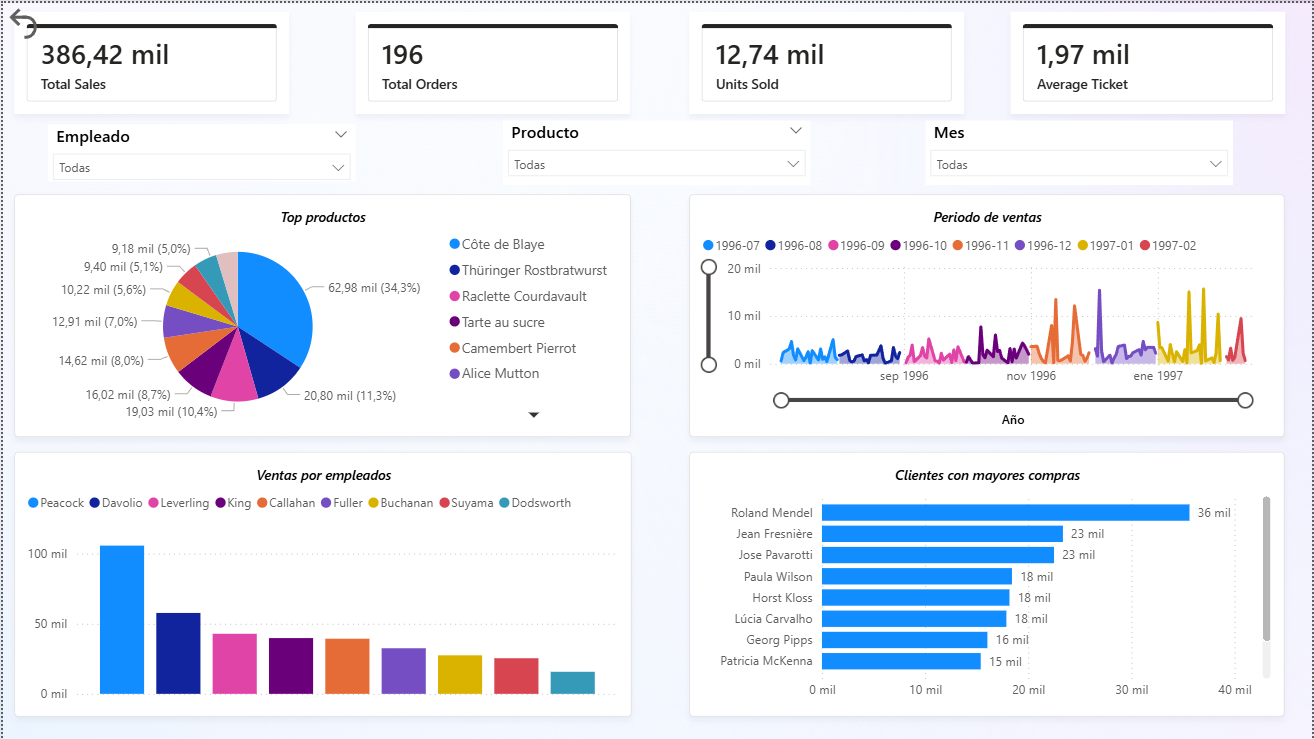

What the dashboard file says about the page in this screenshot:
{"tool":"powerbi","page":{"name":"Página 1","canvas":[1280,720],"ordinal":0},"visuals":[{"type":"columnChart","title":"Ventas por empleados","fields":{"Category":["Employees.FirstName","Employees.LastName"],"Series":["Employees.LastName"],"Y":["Medidas.Total Sales"]},"box":[11,439,604.1,259.2],"z":0},{"type":"clusteredBarChart","title":"Clientes con mayores compras","fields":{"Category":["Customers.ContactName"],"Y":["Medidas.Total Sales"]},"box":[671.3,439,582.1,259.2],"z":1000},{"type":"lineChart","title":"Periodo de ventas","fields":{"Category":["Calendar.Date.Variación.Jerarquía de fechas.Año","Calendar.Date.Variación.Jerarquía de fechas.Trimestre","Calendar.Date.Variación.Jerarquía de fechas.Mes","Calendar.Date.Variación.Jerarquía de fechas.Día"],"Series":["Calendar.YearMonth"],"Y":["Medidas.Total Sales"]},"box":[671.3,187.1,582.1,237.2],"z":2000},{"type":"pieChart","title":"Top productos","fields":{"Category":["Products.ProductName"],"Y":["Medidas.Total Sales"]},"box":[11,187.1,602.9,237.2],"z":3000},{"type":"cardVisual","fields":{"Data":["Medidas.Total Sales"]},"box":[11,8.6,269,100.3],"z":4000},{"type":"cardVisual","fields":{"Data":["Medidas.Total Orders"]},"box":[344.8,8.6,269,100.3],"z":5000},{"type":"cardVisual","fields":{"Data":["Medidas.Units Sold"]},"box":[671.3,8.6,269,100.3],"z":6000},{"type":"cardVisual","fields":{"Data":["Medidas.Average Ticket"]},"box":[985.6,8.6,269,100.3],"z":7000},{"type":"actionButton","box":[0,0,100,40],"z":8000},{"type":"slicer","fields":{"Values":["Employees.LastName"]},"box":[44,118.6,300.8,56.3],"z":8001},{"type":"slicer","fields":{"Values":["Products.ProductName"]},"box":[489.1,114.9,300.8,63.6],"z":8002},{"type":"slicer","fields":{"Values":["Calendar.YearMonth"]},"box":[902.5,114.9,300.8,63.6],"z":8003}]}

Visuals, with their boxes in screenshot pixels (x1, y1, x2, y2), scaled from the page's 1280x720 canvas onto the 1314x739 screenshot:
"Ventas por empleados" columnChart: box=[11, 451, 631, 717]
"Clientes con mayores compras" clusteredBarChart: box=[689, 451, 1287, 717]
"Periodo de ventas" lineChart: box=[689, 192, 1287, 435]
"Top productos" pieChart: box=[11, 192, 630, 435]
cardVisual - Medidas.Total Sales: box=[11, 9, 287, 112]
cardVisual - Medidas.Total Orders: box=[354, 9, 630, 112]
cardVisual - Medidas.Units Sold: box=[689, 9, 965, 112]
cardVisual - Medidas.Average Ticket: box=[1012, 9, 1288, 112]
actionButton: box=[0, 0, 103, 41]
slicer - Employees.LastName: box=[45, 122, 354, 180]
slicer - Products.ProductName: box=[502, 118, 811, 183]
slicer - Calendar.YearMonth: box=[926, 118, 1235, 183]
